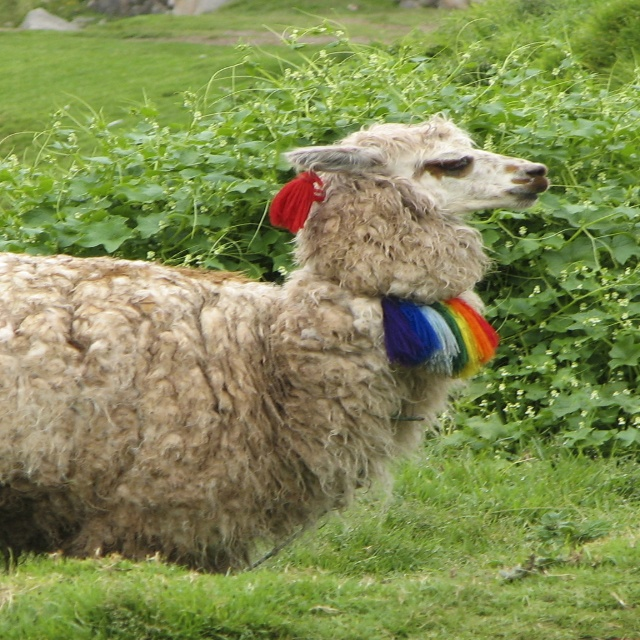Sheep: (0, 112, 548, 576)
